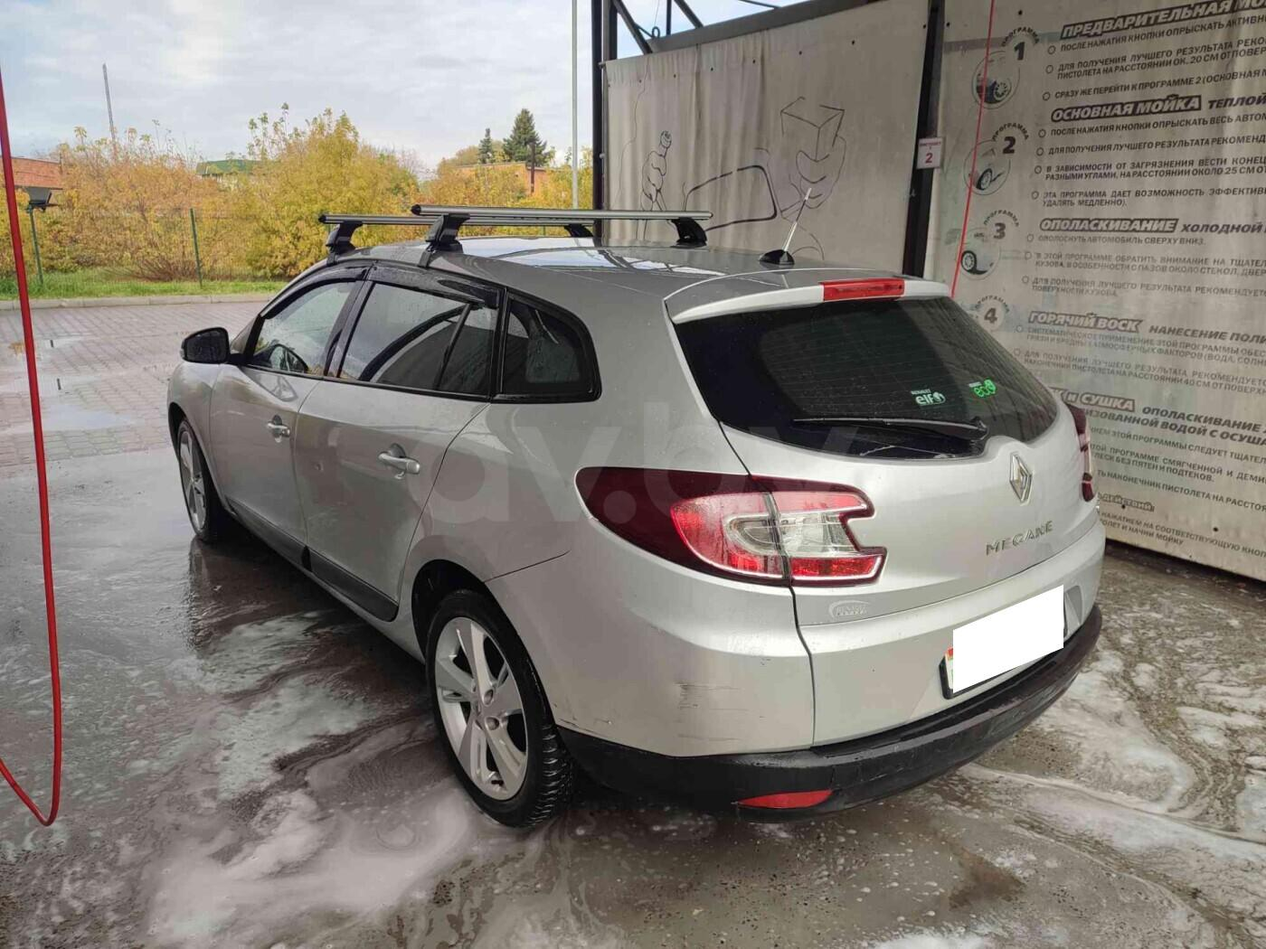Megane_2008-2014: (156, 236, 1120, 855)
